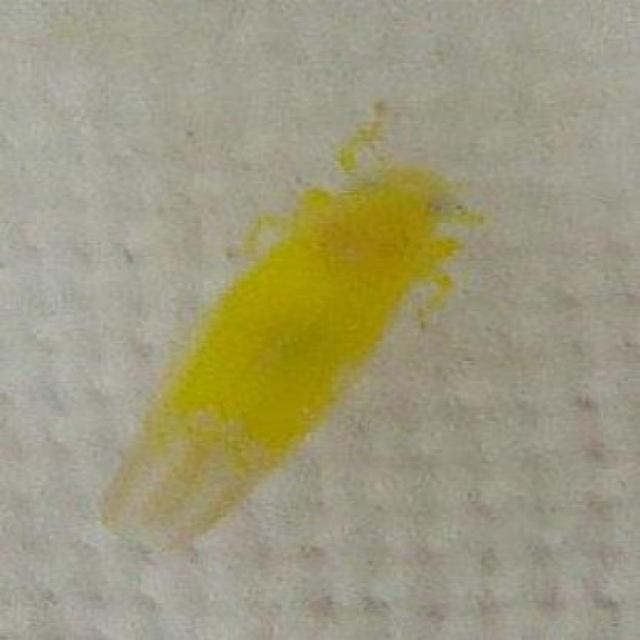green-leafhopper: (102, 146, 490, 539)
